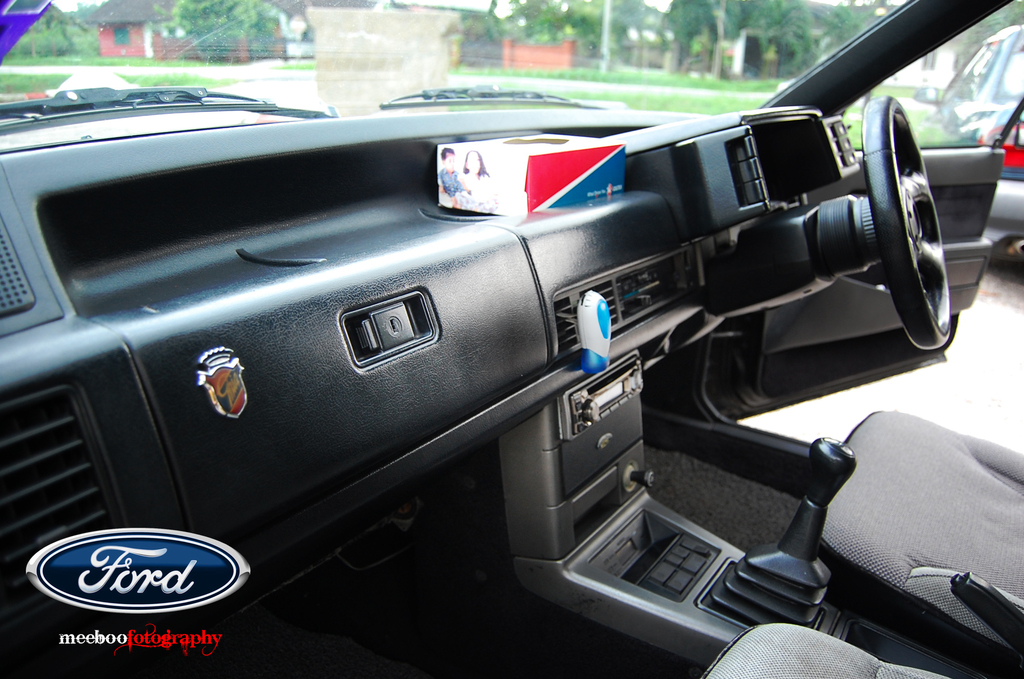Car: (0, 0, 1023, 678), (916, 23, 1023, 181)
